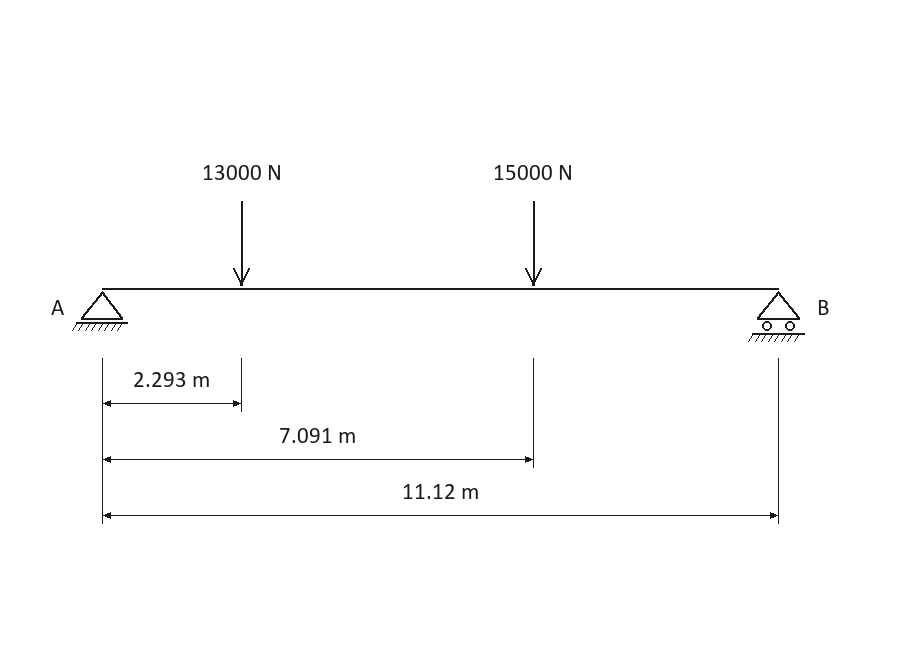pin_support: (72, 291, 128, 331)
point_load: (233, 201, 250, 286), (525, 201, 542, 286)
roller_support: (748, 291, 805, 342)
